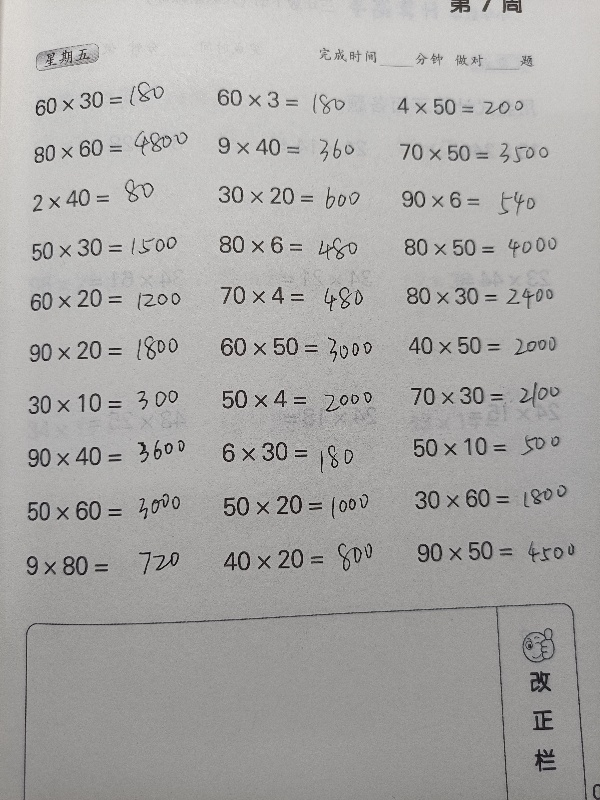equation: (213, 434, 393, 477), (214, 486, 394, 527), (211, 327, 391, 367), (25, 125, 205, 165), (210, 178, 390, 217), (26, 81, 206, 120), (397, 279, 577, 316), (392, 135, 572, 171), (18, 548, 198, 583), (214, 541, 394, 576), (408, 533, 588, 568), (18, 493, 198, 528), (19, 439, 199, 474), (213, 380, 393, 415), (23, 229, 203, 264), (406, 481, 586, 515), (404, 429, 584, 463), (19, 386, 199, 420), (20, 333, 200, 367), (21, 282, 201, 316), (213, 278, 393, 312), (402, 379, 582, 412), (400, 329, 580, 362), (396, 231, 576, 264), (210, 228, 390, 261), (393, 182, 573, 215), (24, 183, 204, 216), (209, 130, 389, 163), (208, 82, 388, 115), (395, 85, 535, 122)
